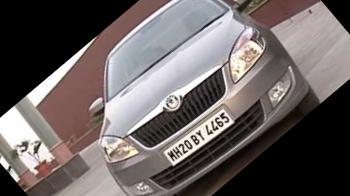plate: (147, 82, 256, 186)
